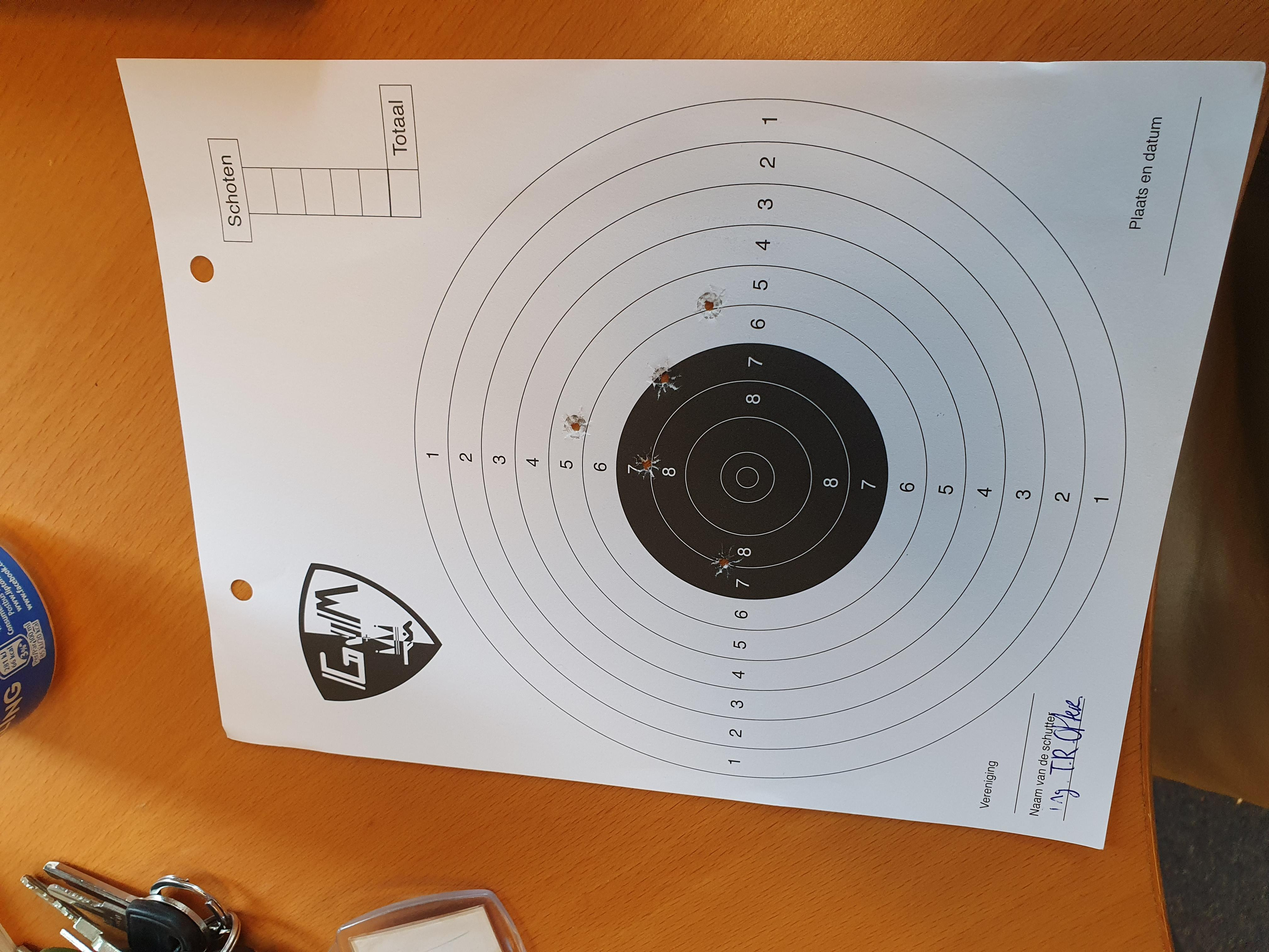hole: (840, 515, 888, 545), (744, 483, 791, 509), (681, 418, 726, 444), (502, 531, 548, 556), (629, 474, 672, 499)
